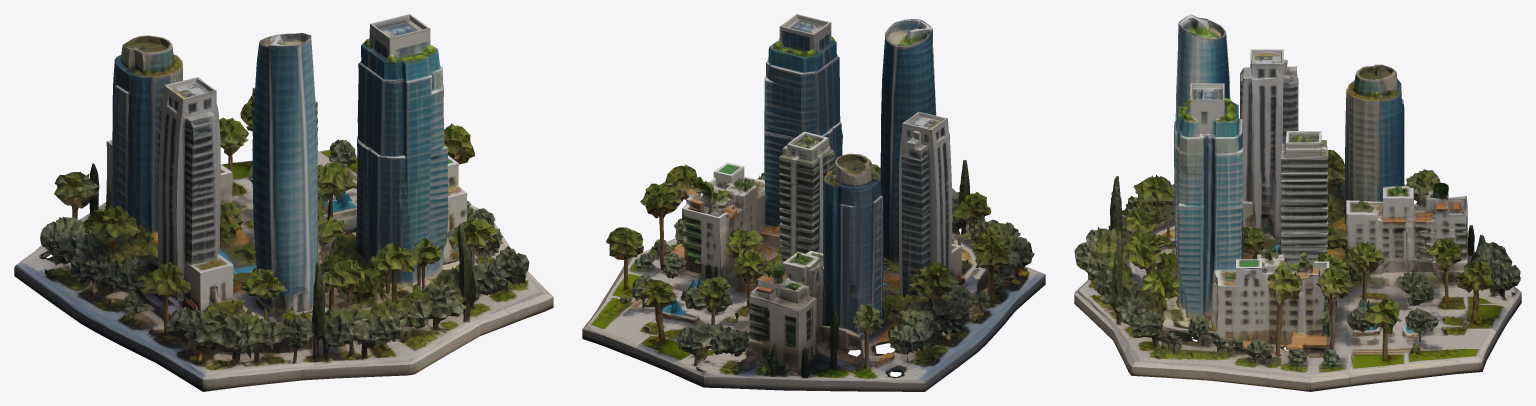
Rendered from city_modern_tlv.glb.
3 views of the same model, side by side, from view 1: azimuth 30°, elevation 25°; view 2: azimuth 150°, elevation 25°; view 3: azimuth 270°, elevation 25° (orthographic). The views are drawn at different scales.
Parts seen in each view (by area): view 1: world; view 2: world; view 3: world.
Part boxes in pixels (x1,y1,x2,y2): world: (14, 14, 553, 391); world: (582, 14, 1045, 391); world: (1074, 14, 1521, 391).
Size of the model in its own units: 0.9127 by 0.6364 by 1.
Materials: 1 (1 with a texture image).
